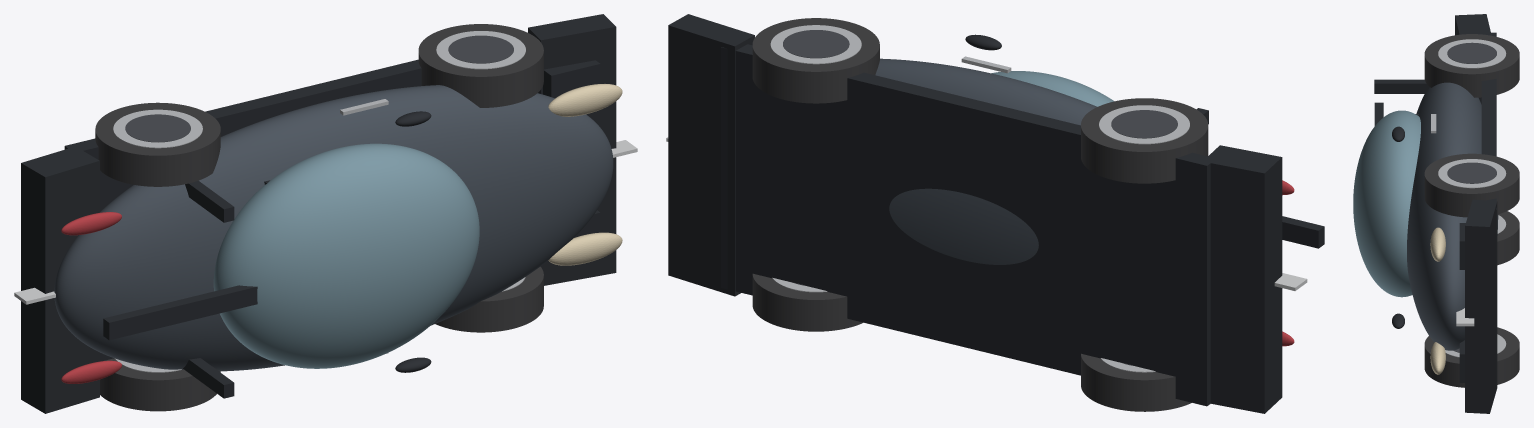
File: SM_Redline_HeroSupercar_HQ.glb
The picture shows the model from 3 angles, left to right: view 1: azimuth 30°, elevation 25°; view 2: azimuth 150°, elevation 25°; view 3: azimuth 270°, elevation 25°; orthographic projection. The views are drawn at different scales.
Parts seen in each view (by area): view 1: body_main, canopy, rear_diffuser, front_splitter, tire_-1.25_0.83, undertray, tire_1.25_0.83, tire_-1.25_-0.83, rear_wing, tire_1.25_-0.83, headlight_0.55, headlight_-0.55 (+9 smaller); view 2: undertray, rear_diffuser, front_splitter, body_main, tire_-1.25_0.83, tire_1.25_0.83, tire_1.25_-0.83, tire_-1.25_-0.83, brake_-1.25_0.83, brake_1.25_0.83, canopy, rim_-1.25_0.83 (+2 smaller); view 3: body_main, canopy, front_splitter, tire_1.25_0.83, tire_-1.25_0.83, tire_1.25_-0.83, undertray, tire_-1.25_-0.83, brake_1.25_0.83, brake_-1.25_0.83, rim_-1.25_0.83, rim_1.25_0.83 (+11 smaller).
Part boxes in pixels (left/top/right/bottom): body_main: left=54, top=85, right=613, bottom=371; canopy: left=213, top=143, right=479, bottom=368; rear_diffuser: left=21, top=149, right=99, bottom=413; front_splitter: left=528, top=14, right=616, bottom=285; tire_-1.25_0.83: left=95, top=102, right=220, bottom=186; undertray: left=64, top=59, right=421, bottom=361; tire_1.25_0.83: left=418, top=24, right=543, bottom=107; tire_-1.25_-0.83: left=100, top=358, right=220, bottom=411; rear_wing: left=103, top=285, right=257, bottom=340; tire_1.25_-0.83: left=435, top=266, right=543, bottom=332; headlight_0.55: left=548, top=84, right=622, bottom=116; headlight_-0.55: left=548, top=232, right=622, bottom=265; undertray: left=721, top=44, right=1215, bottom=406; rear_diffuser: left=1203, top=145, right=1282, bottom=413; front_splitter: left=668, top=14, right=754, bottom=296; body_main: left=875, top=58, right=1097, bottom=264; tire_-1.25_0.83: left=1081, top=98, right=1208, bottom=183; tire_1.25_0.83: left=752, top=18, right=879, bottom=103; tire_1.25_-0.83: left=752, top=273, right=862, bottom=331; tire_-1.25_-0.83: left=1081, top=353, right=1191, bottom=411; brake_-1.25_0.83: left=1111, top=110, right=1177, bottom=138; brake_1.25_0.83: left=783, top=30, right=849, bottom=58; canopy: left=991, top=71, right=1113, bottom=106; rim_-1.25_0.83: left=1099, top=105, right=1189, bottom=144; body_main: left=1407, top=82, right=1498, bottom=350; canopy: left=1353, top=110, right=1420, bottom=297; front_splitter: left=1465, top=199, right=1497, bottom=413; tire_1.25_0.83: left=1424, top=153, right=1519, bottom=217; tire_-1.25_0.83: left=1424, top=34, right=1519, bottom=97; tire_1.25_-0.83: left=1424, top=327, right=1519, bottom=387; undertray: left=1481, top=32, right=1496, bottom=389; tire_-1.25_-0.83: left=1497, top=211, right=1519, bottom=265; brake_1.25_0.83: left=1447, top=162, right=1496, bottom=183; brake_-1.25_0.83: left=1447, top=42, right=1496, bottom=63; rim_-1.25_0.83: left=1438, top=39, right=1506, bottom=68; rim_1.25_0.83: left=1438, top=159, right=1506, bottom=188.
Size of the model in its own units: 4.76 by 1.9 by 1.47.
